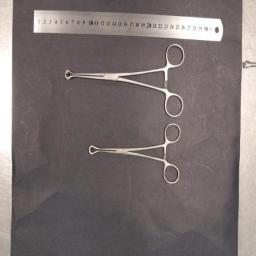Babcock Tissue Forceps: (89, 122, 181, 184)
